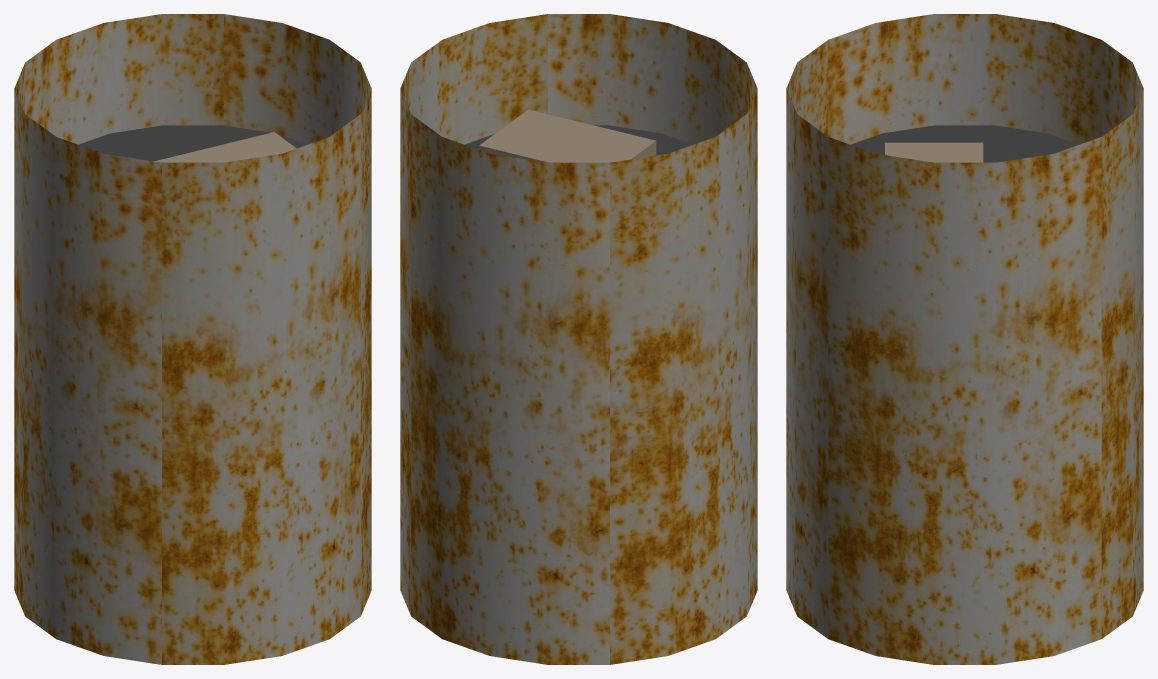
File: burn_barrel.glb
The picture shows the model from 3 angles, left to right: view 1: azimuth 30°, elevation 25°; view 2: azimuth 150°, elevation 25°; view 3: azimuth 270°, elevation 25°; orthographic projection.
Parts seen in each view (by area): view 1: burn_barrel; view 2: burn_barrel; view 3: burn_barrel.
Part boxes in pixels (bbox=[...]): burn_barrel: bbox=[14, 14, 371, 664]; burn_barrel: bbox=[400, 14, 757, 664]; burn_barrel: bbox=[786, 14, 1143, 664].
Bounding box in the file's own units: 0.5712 × 0.9 × 0.58.
Materials: 3 (1 with a texture image).
